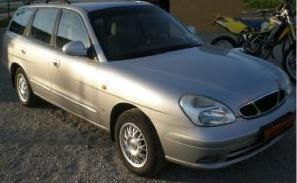front_view: (164, 70, 295, 161)
headlight: (178, 92, 239, 129)
side_glass: (24, 10, 106, 65)
